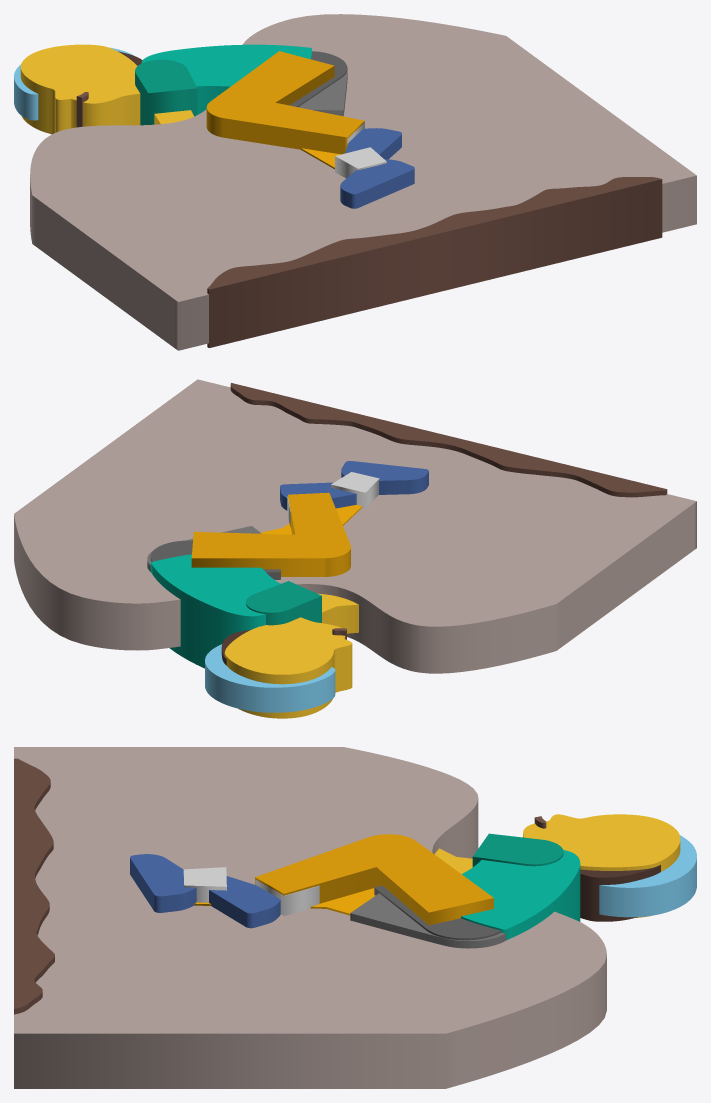
Rendered from emoji_u1f6b5_200d_2642.glb.
3 renders of one model, top to bottom at view 1: azimuth 30°, elevation 25°; view 2: azimuth 150°, elevation 25°; view 3: azimuth 270°, elevation 25°, orthographic. The views are drawn at different scales.
Visible parts, largest first — view 1: emoji_u1f6b5_200d_2642; view 2: emoji_u1f6b5_200d_2642; view 3: emoji_u1f6b5_200d_2642.
Boxes of the visible parts, x1=… form: emoji_u1f6b5_200d_2642: x1=14, y1=14, x2=696, y2=350; emoji_u1f6b5_200d_2642: x1=14, y1=379, x2=696, y2=718; emoji_u1f6b5_200d_2642: x1=14, y1=747, x2=696, y2=1088.
Bounding box in the file's own units: 0.0334 × 0.0054 × 0.0336.
